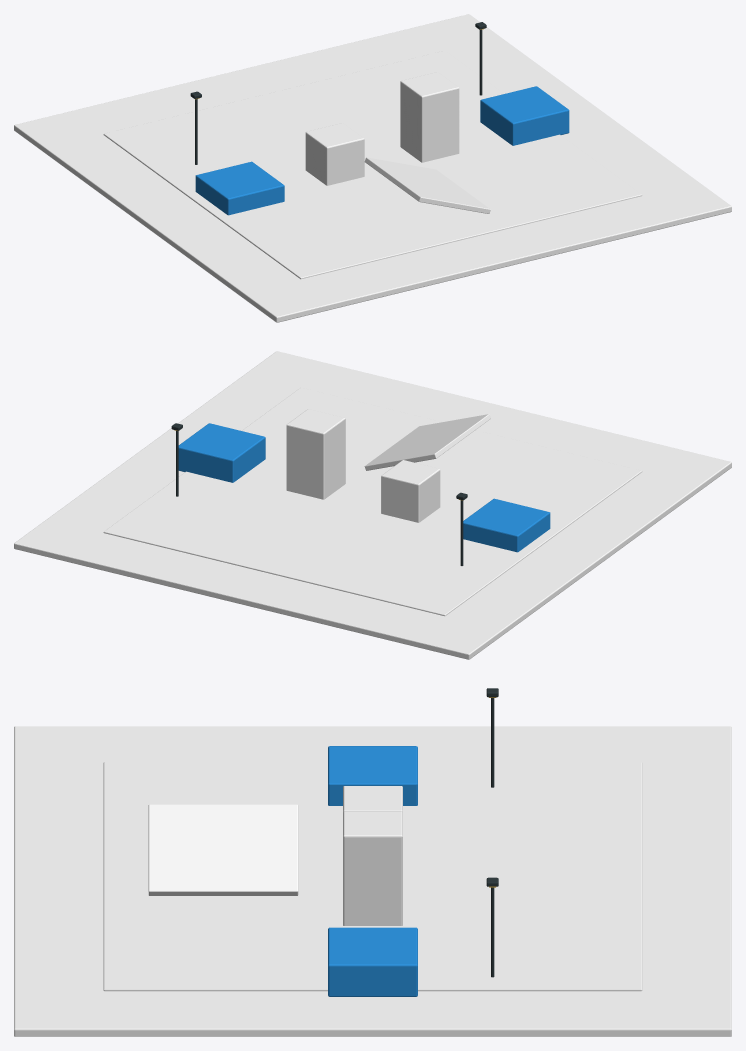
File: 03_Traversal_Yard.gltf
The picture shows the model from 3 angles, top to bottom: view 1: azimuth 30°, elevation 25°; view 2: azimuth 150°, elevation 25°; view 3: azimuth 270°, elevation 25°; orthographic projection. The views are drawn at different scales.
Parts seen in each view (by area): view 1: Traversal Ground, Traversal Pad, Jump B, Landing, Start, Jump A, Ramp; view 2: Traversal Ground, Traversal Pad, Jump B, Landing, Start, Jump A, Ramp; view 3: Traversal Ground, Traversal Pad, Ramp, Jump B, Landing, Start, Jump A.
Part boxes in pixels (x1,y1,x2,y2): Traversal Ground: (14, 14, 731, 322); Traversal Pad: (103, 50, 642, 279); Jump B: (400, 72, 459, 162); Landing: (480, 86, 569, 145); Start: (195, 161, 284, 215); Jump A: (305, 123, 364, 185); Ramp: (364, 157, 490, 213); Traversal Ground: (14, 351, 731, 659); Traversal Pad: (103, 387, 642, 616); Jump B: (286, 409, 345, 499); Landing: (178, 423, 265, 482); Start: (463, 498, 550, 552); Jump A: (381, 460, 440, 522); Ramp: (364, 414, 490, 470); Traversal Ground: (14, 726, 731, 1036); Traversal Pad: (103, 762, 642, 991); Ramp: (148, 804, 298, 895); Jump B: (343, 811, 402, 925); Landing: (328, 927, 417, 996); Start: (328, 746, 417, 805); Jump A: (343, 786, 402, 811).
Bounding box in the file's own units: 24 × 3.94 × 24.
